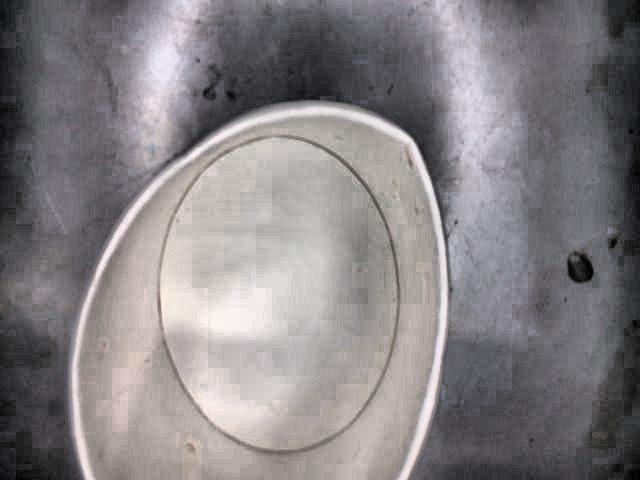Paper: (68, 101, 450, 480)
